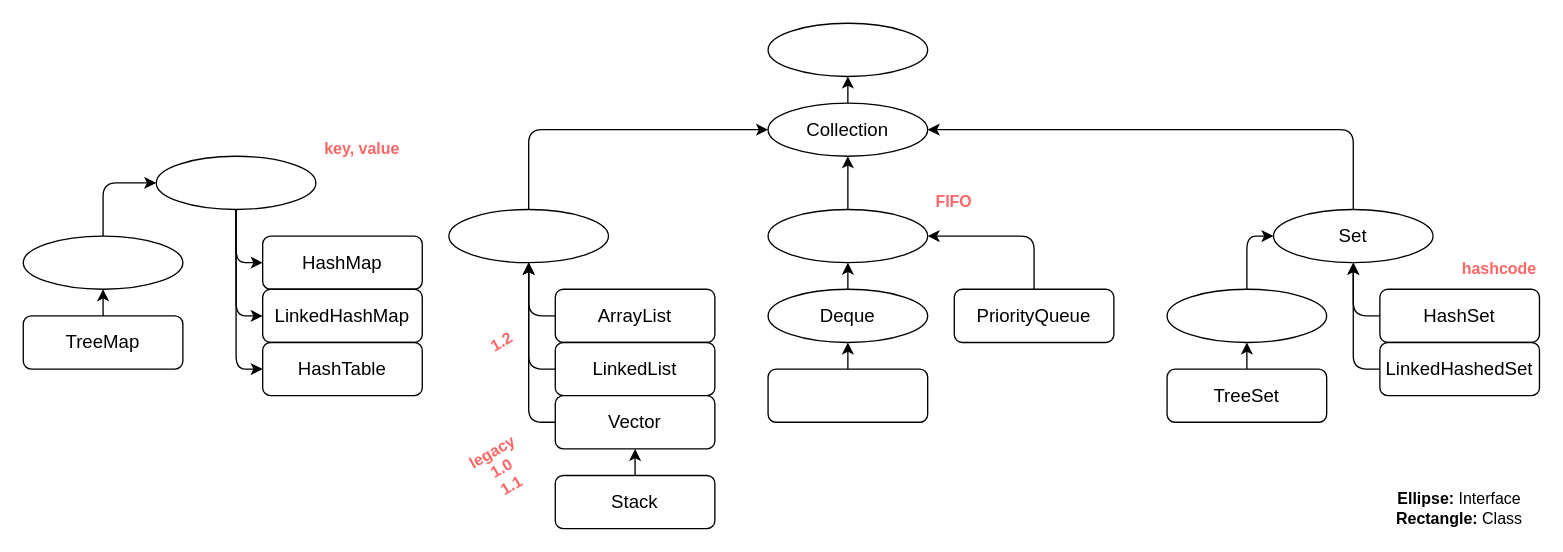
Some shapes in this 1563 by 552 pixel diagram are drawn without their labels. Each missing label, with the box of its shape:
ArrayDeque: (767, 368, 928, 422)
Iterable: (767, 22, 928, 76)
List: (448, 208, 608, 263)
Map: (155, 155, 316, 209)
Queue: (767, 208, 928, 263)
SortedMap: (22, 235, 183, 289)
SortedSet: (1166, 288, 1327, 342)
